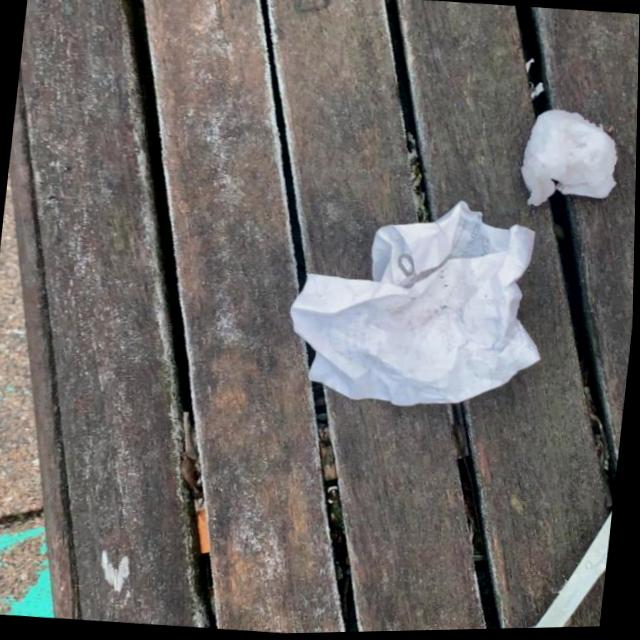Paper: (276, 190, 552, 417)
